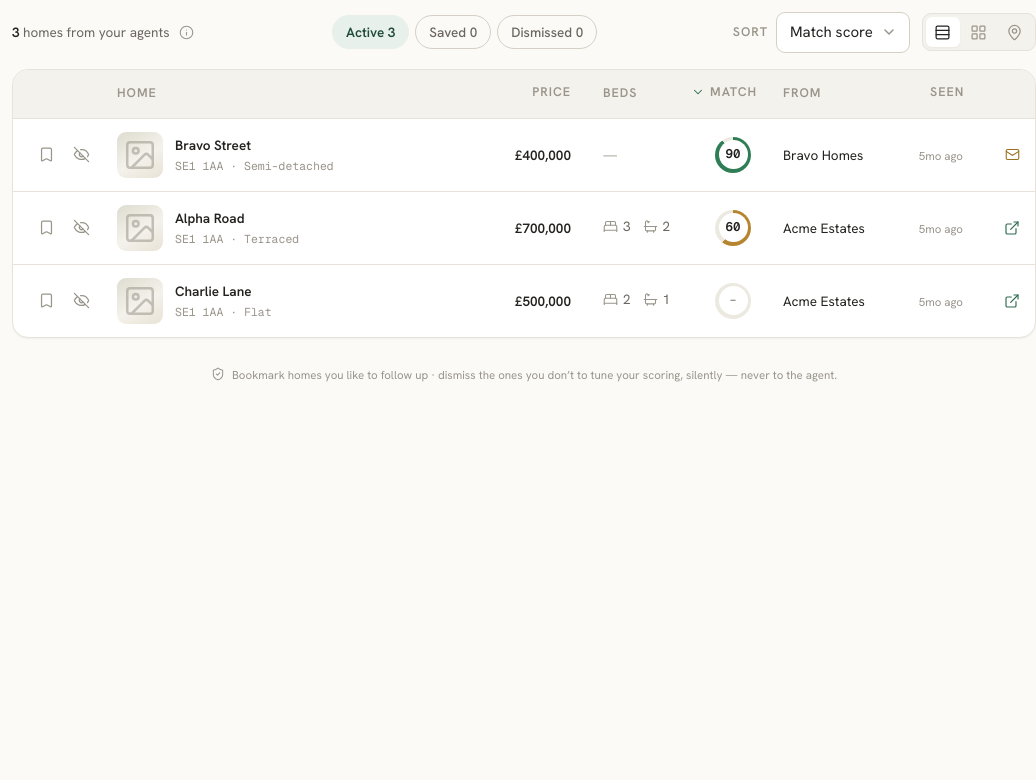
Test: ListingsPage interest + follow-ups › toggling a bookmark reveals the interest bar and persists via save/unsave
Click the button with test id "interest-button" next to "Bravo Street".
click(46, 155)  # box x1=29 y1=138 x2=63 y2=172
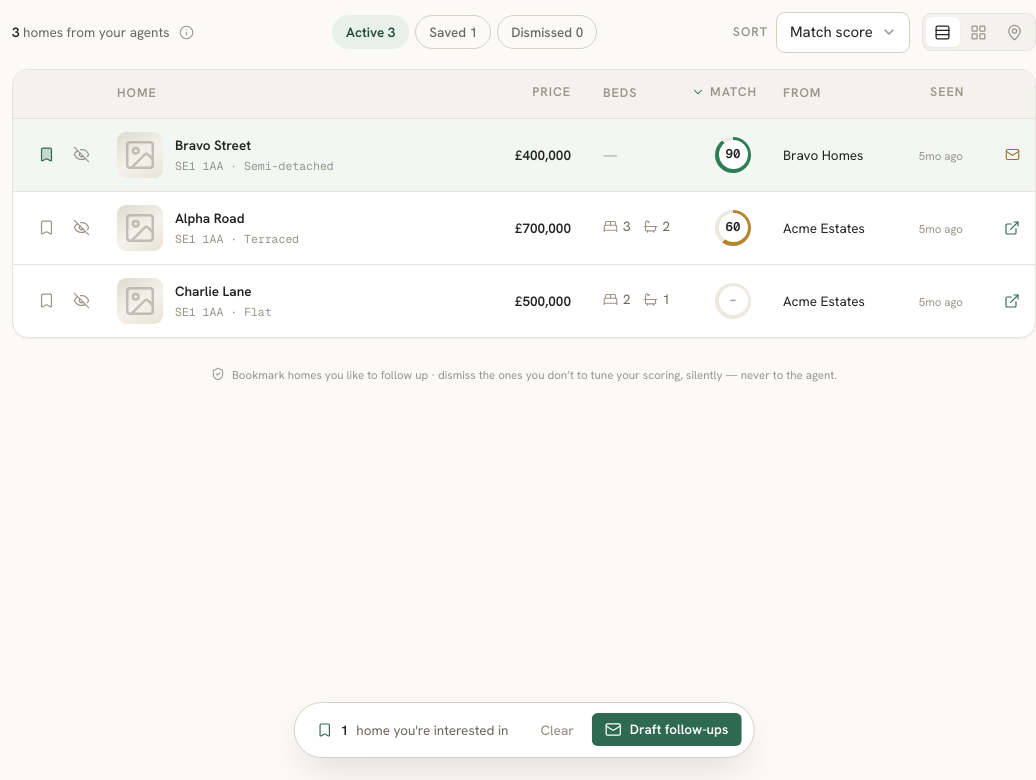
Expected: the message with test id "interest-bar" shows "1", x1=341 y1=721 x2=348 y2=739
Expected: the message with test id "interest-bar" shows "home you're interested in", x1=294 y1=702 x2=754 y2=758
Note: Un-bookmark → the bar disappears + unsave fires.
Click the 1st button with test id "interest-button".
click(46, 155)  # box x1=29 y1=138 x2=63 y2=172
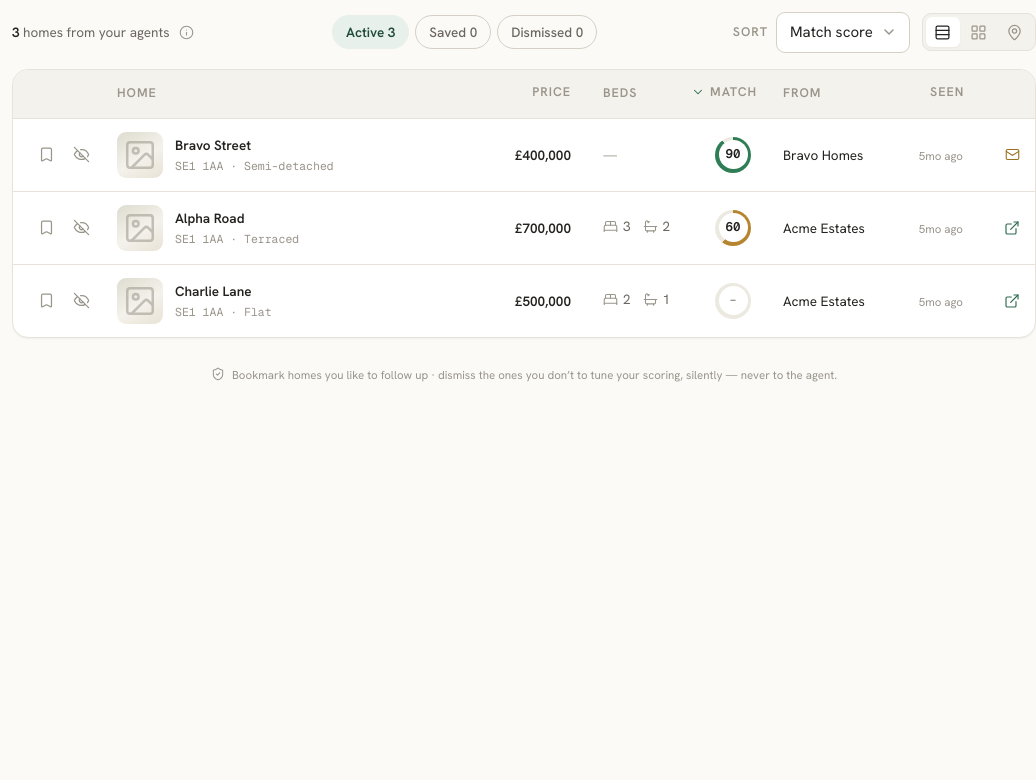
Expected: the message with test id "interest-bar" is gone
